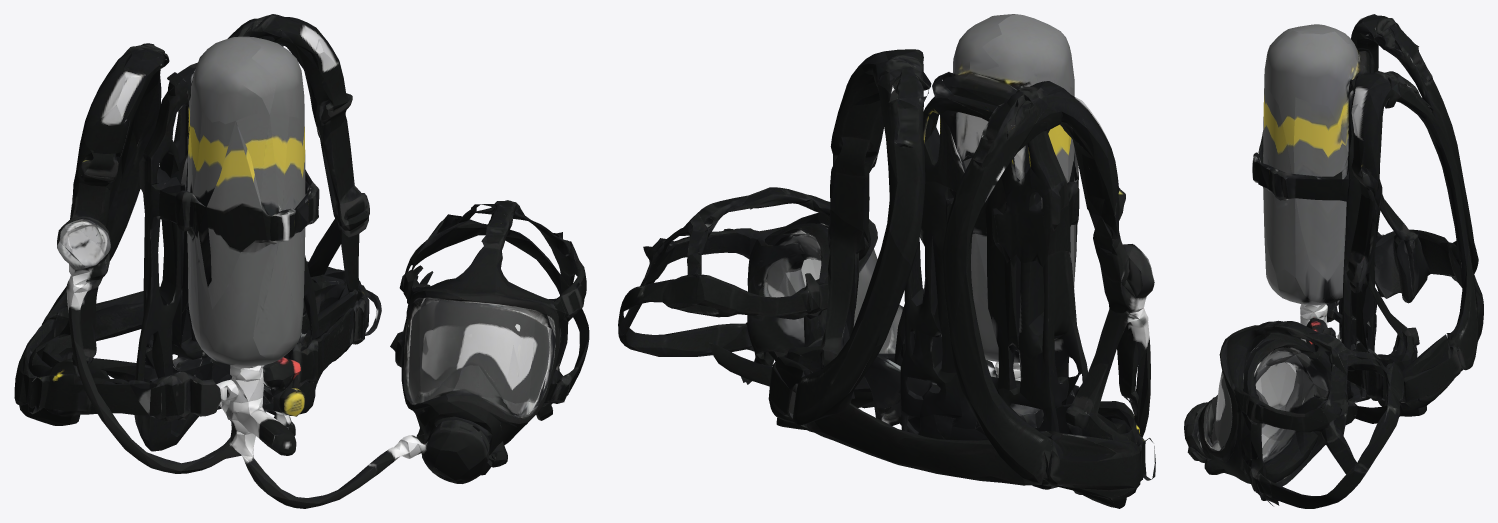
File: insp_caba.glb
3 views of the same model, side by side, from view 1: azimuth 30°, elevation 25°; view 2: azimuth 150°, elevation 25°; view 3: azimuth 270°, elevation 25° (orthographic). The views are drawn at different scales.
Visible parts, largest first — view 1: output_unwrapped; view 2: output_unwrapped; view 3: output_unwrapped.
Part boxes in pixels (<box>): output_unwrapped: <box>14,14,589,508</box>; output_unwrapped: <box>618,14,1155,508</box>; output_unwrapped: <box>1184,14,1483,508</box>.
Bounding box in the file's own units: 1.88 × 1.49 × 1.09.
1 material, 1 textured.
